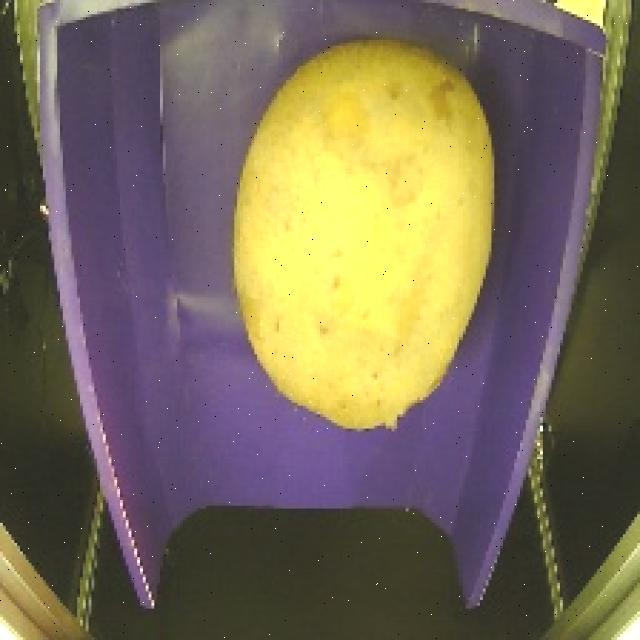full_potato: (226, 30, 509, 448)
